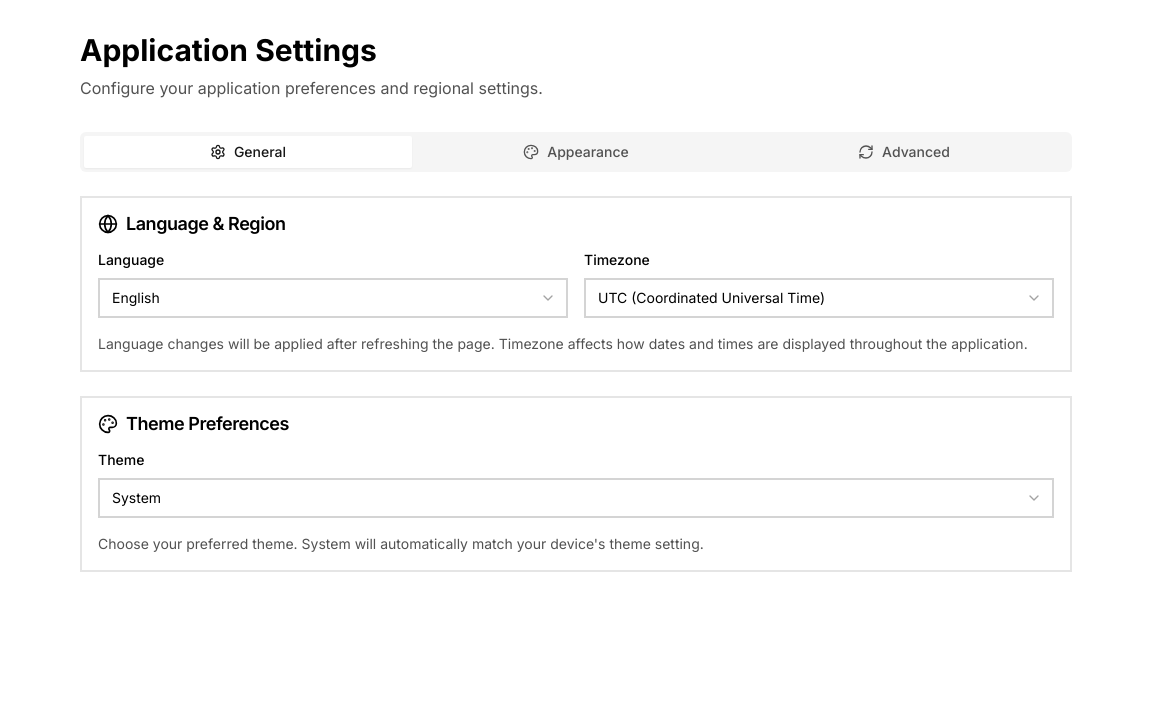
Scenario: SettingsPage › switches between tabs
# Switch to appearance tab
Click the tab "Appearance". click: (576, 152)
box: [412,136,740,168]
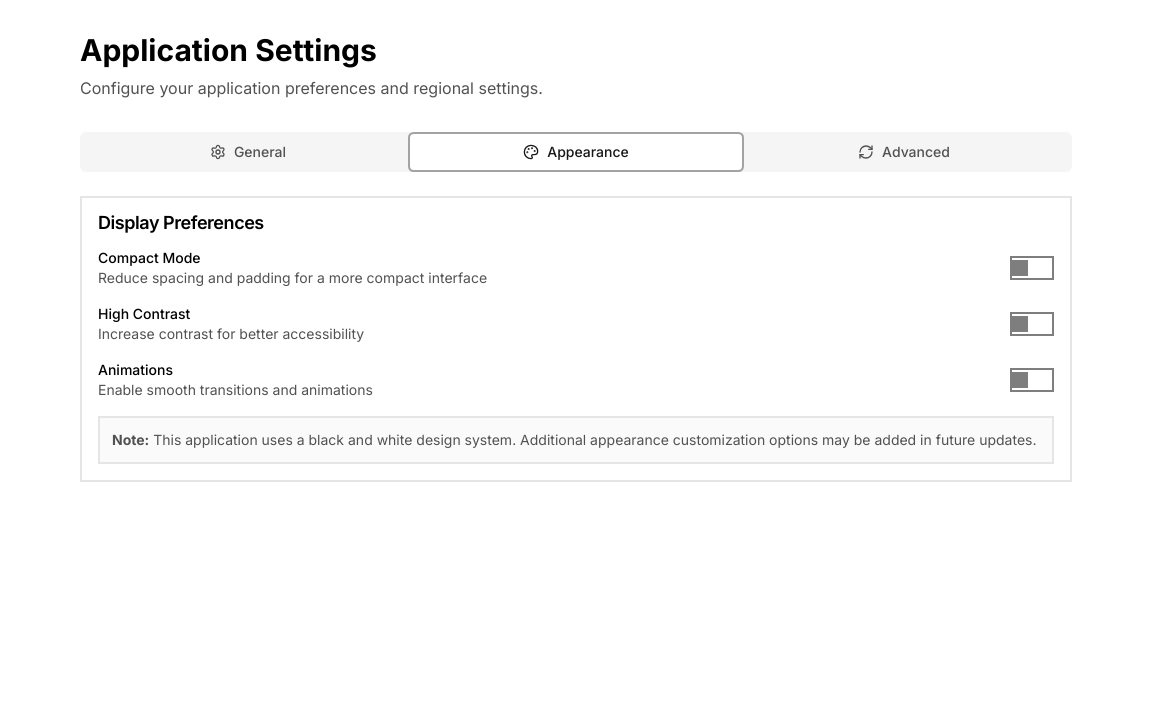
expect the heading "Display Preferences" is shown: met, box [98,212,264,233]
expect the text "Compact Mode" is shown: met, box [98,249,201,266]
# Switch to advanced tab
Click the tab "Advanced". click: (904, 152)
box: [740,136,1068,168]
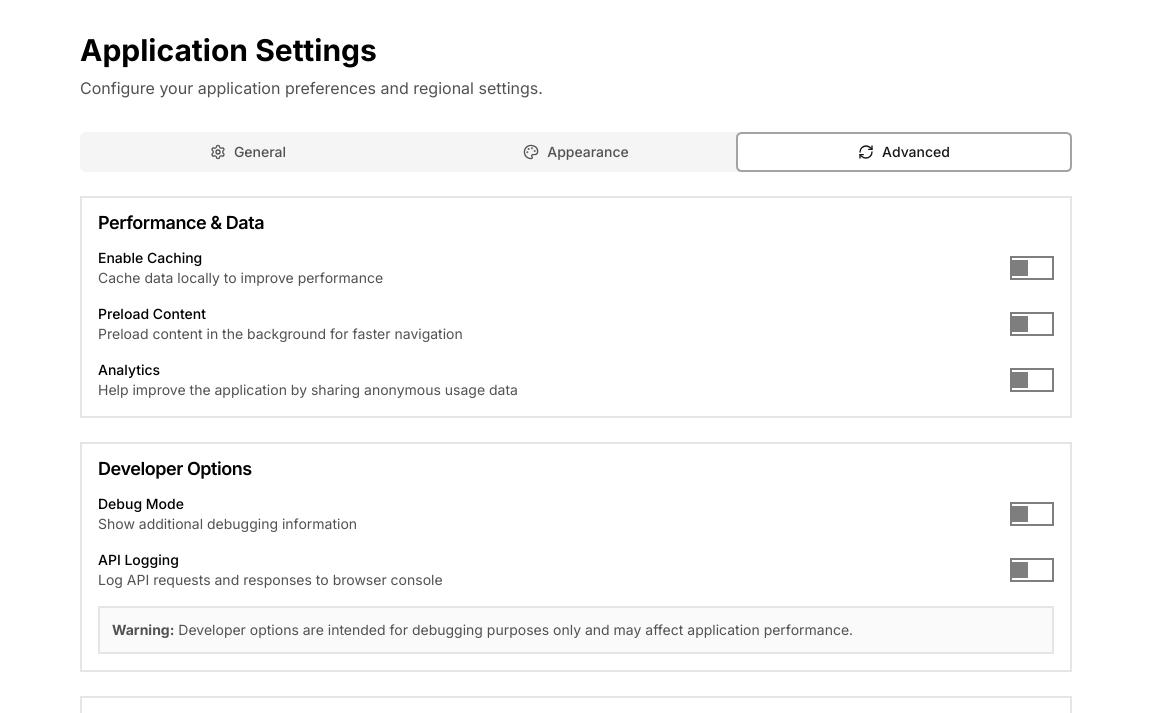
expect the heading "Performance & Data" is shown: met, box [98,212,264,233]
expect the heading "Developer Options" is shown: met, box [98,458,252,479]
